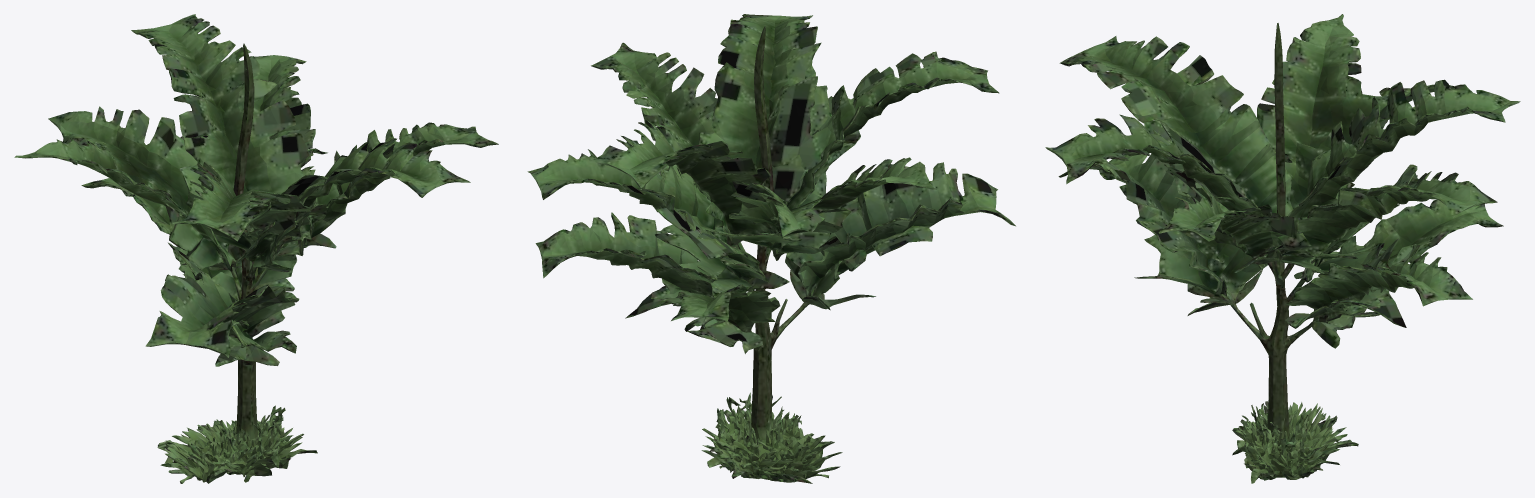
File: bog_fern_01.glb
3 renders of one model, left to right at view 1: azimuth 30°, elevation 25°; view 2: azimuth 150°, elevation 25°; view 3: azimuth 270°, elevation 25°, orthographic. The views are drawn at different scales.
Visible parts, largest first — view 1: geometry_0; view 2: geometry_0; view 3: geometry_0.
Boxes of the visible parts, x1,y1,x2,y2 form: geometry_0: (14,14,498,483); geometry_0: (527,14,1015,483); geometry_0: (1045,14,1520,483).
Bounding box in the file's own units: 0.9828 × 1 × 0.9776.
1 material, 1 textured.
